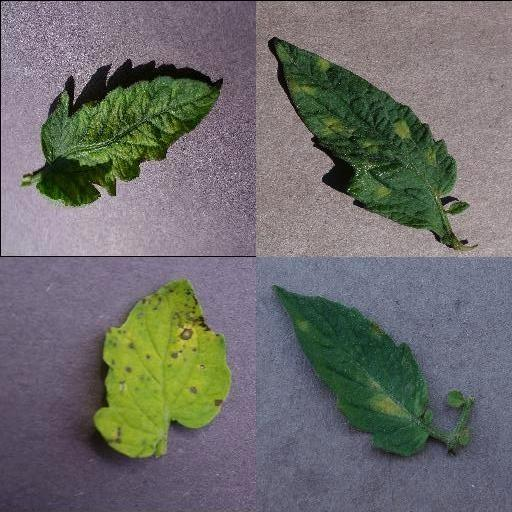Leaf Mold: (270, 37, 458, 229), (270, 284, 436, 454)
Mosaic Virus: (36, 75, 222, 205)
Septoria: (93, 277, 234, 459)
